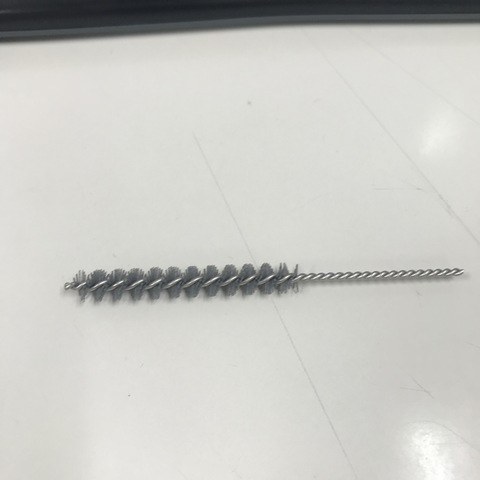Twist Brush-A: (60, 267, 474, 301)
